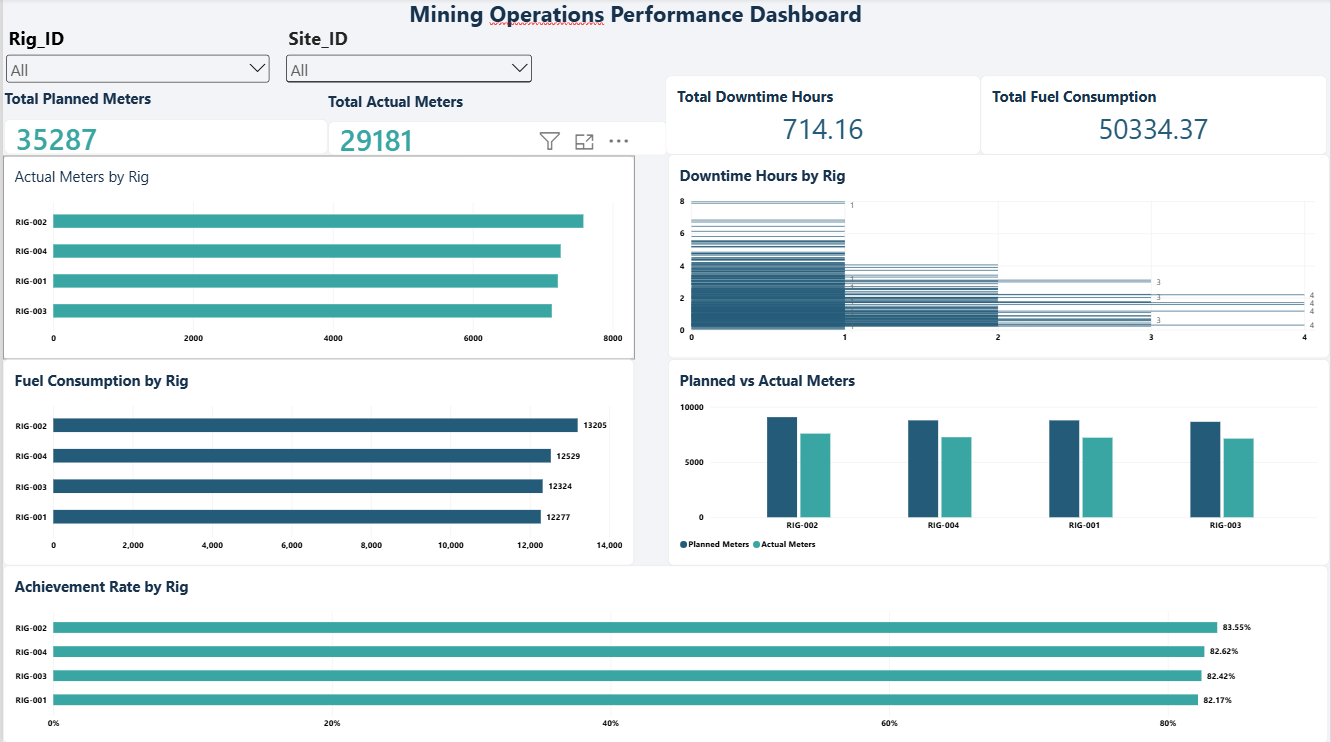

The page's visual inventory and layout, read from the dashboard file:
{"tool":"powerbi","page":{"name":"Page 1","canvas":[1920,1080],"ordinal":0},"visuals":[{"type":"cardVisual","title":"Total Planned Meters","fields":{"Data":["mining_operations.Total Planned Meters"]},"box":[0,89.6,556.8,96],"z":0},{"type":"cardVisual","title":"Total Actual Meters","fields":{"Data":["mining_operations.Total Actual Meters"]},"box":[556.8,89.6,403.2,93.9],"z":1},{"type":"PBI_CV_7B952816_A48F_49B4_9E13_15E3BB2C0337","title":"Total Downtime Hours","fields":{"Values":["Sum(mining_operations.Downtime_Hours)"]},"box":[960,72.5,454.4,110.9],"z":2},{"type":"PBI_CV_7B952816_A48F_49B4_9E13_15E3BB2C0337","title":"Total Fuel Consumption","fields":{"Values":["Sum(mining_operations.Fuel_Consumption_L)"]},"box":[1414.4,72.5,501.3,113.1],"z":3},{"type":"clusteredBarChart","title":"Actual Meters by Rig","fields":{"Category":["mining_operations.Rig_ID"],"Y":["Sum(mining_operations.Actual_Meters)"]},"box":[0,183.5,998.4,294.4],"z":4},{"type":"clusteredBarChart","title":"Downtime Hours by Rig","fields":{"Category":["mining_operations.Downtime_Hours"],"Y":["CountNonNull(mining_operations.Rig_ID)"]},"box":[1041.1,183.5,878.9,296.5],"z":5},{"type":"clusteredBarChart","title":"Fuel Consumption by Rig ","fields":{"Category":["mining_operations.Rig_ID"],"Y":["Sum(mining_operations.Fuel_Consumption_L)"]},"box":[0,477.9,998.4,298.7],"z":6},{"type":"clusteredColumnChart","title":"Planned vs Actual Meters","fields":{"Category":["mining_operations.Rig_ID"],"Y":["Sum(mining_operations.Planned_Meters)","Sum(mining_operations.Actual_Meters)"]},"box":[1041.1,477.9,878.9,298.7],"z":7},{"type":"clusteredBarChart","title":"Achievement Rate by Rig","fields":{"Category":["mining_operations.Rig_ID"],"Y":["mining_operations.Achievement_Rate"]},"box":[0,776.5,1917.9,302.9],"z":8},{"type":"slicer","fields":{"Values":["mining_operations.Rig_ID"]},"box":[0,0,390.4,89.6],"z":9},{"type":"slicer","fields":{"Values":["mining_operations.Site"]},"box":[422.4,0,375.5,89.6],"z":10}]}

Visuals, with their boxes in screenshot pixels (x1, y1, x2, y2), scaled from the page's 1920x1080 canvas onto the 1331x742 screenshot:
"Total Planned Meters" cardVisual: (0, 62, 386, 128)
"Total Actual Meters" cardVisual: (386, 62, 666, 126)
"Total Downtime Hours" PBI_CV_7B952816_A48F_49B4_9E13_15E3BB2C0337: (666, 50, 981, 126)
"Total Fuel Consumption" PBI_CV_7B952816_A48F_49B4_9E13_15E3BB2C0337: (981, 50, 1328, 128)
"Actual Meters by Rig" clusteredBarChart: (0, 126, 692, 328)
"Downtime Hours by Rig" clusteredBarChart: (722, 126, 1330, 330)
"Fuel Consumption by Rig " clusteredBarChart: (0, 328, 692, 534)
"Planned vs Actual Meters" clusteredColumnChart: (722, 328, 1330, 534)
"Achievement Rate by Rig" clusteredBarChart: (0, 533, 1330, 741)
slicer - mining_operations.Rig_ID: (0, 0, 271, 62)
slicer - mining_operations.Site: (293, 0, 553, 62)
